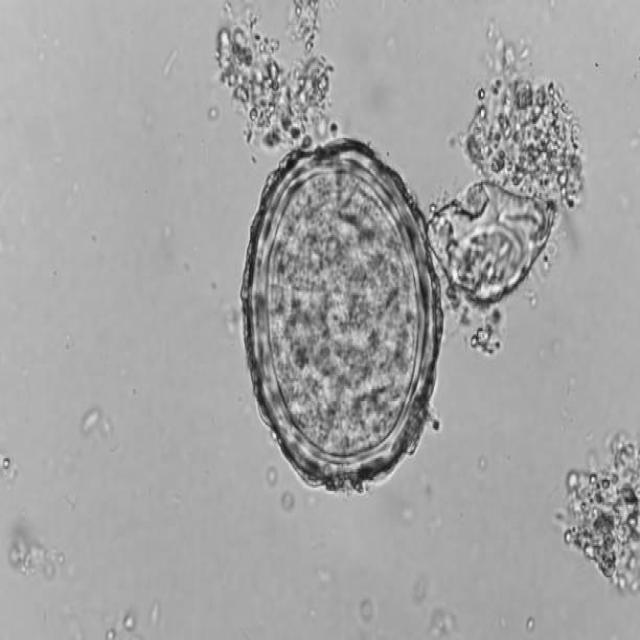Ascaris Lumbricoides: (236, 131, 450, 501)
